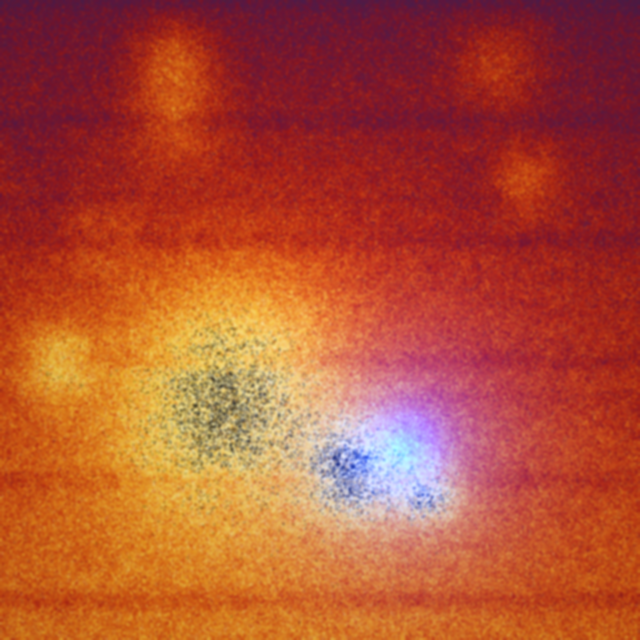nozzle: (346, 415, 450, 506)
